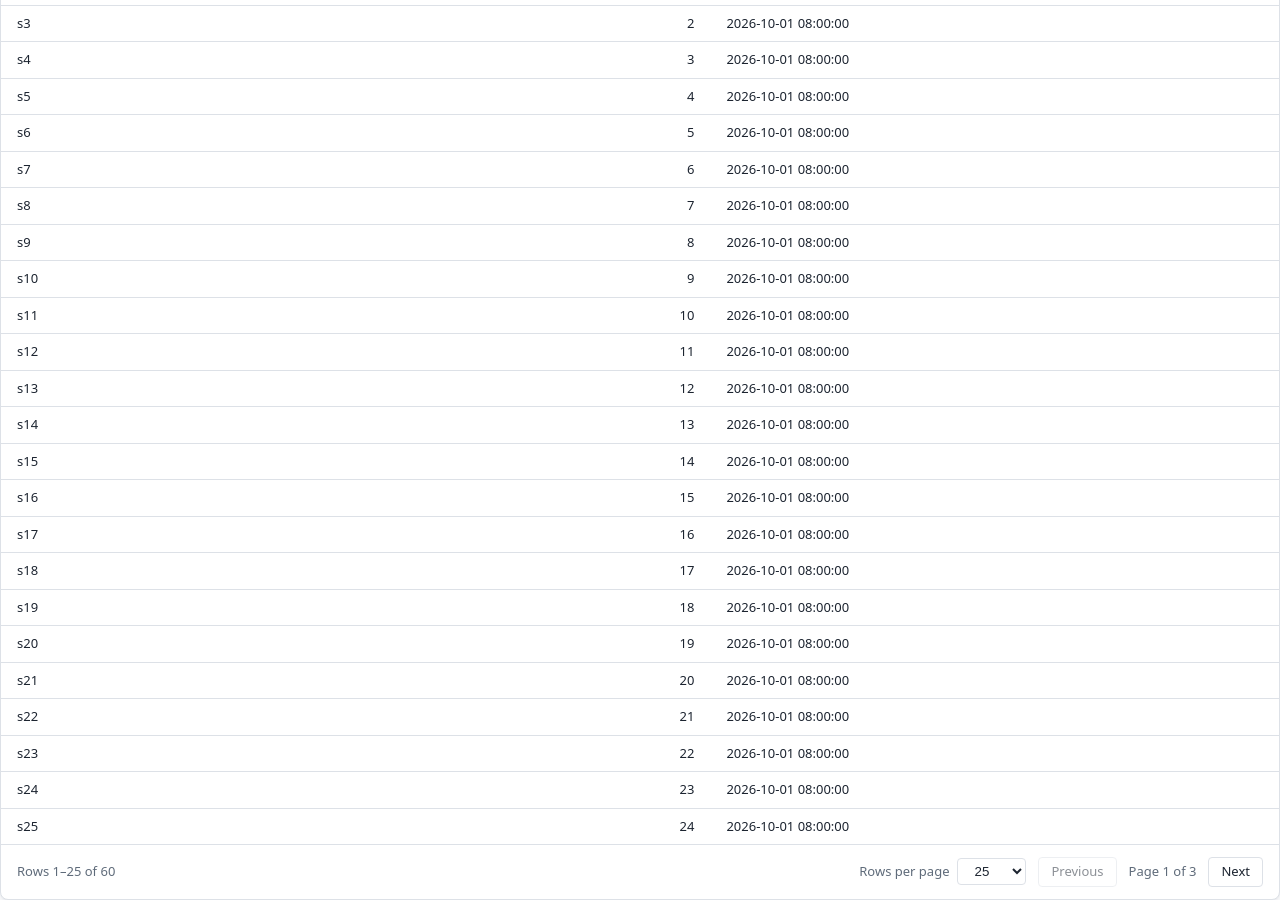
Test: DataTable › pages through rows
(page scrolled)
Expected: the text "Rows 1–25 of 60" is shown, 17,862 -> 115,882
Expected: the text "Page 1 of 3" is shown, 1129,862 -> 1196,882
Click the button "Next": x=1236, y=872 1208,857 -> 1263,886
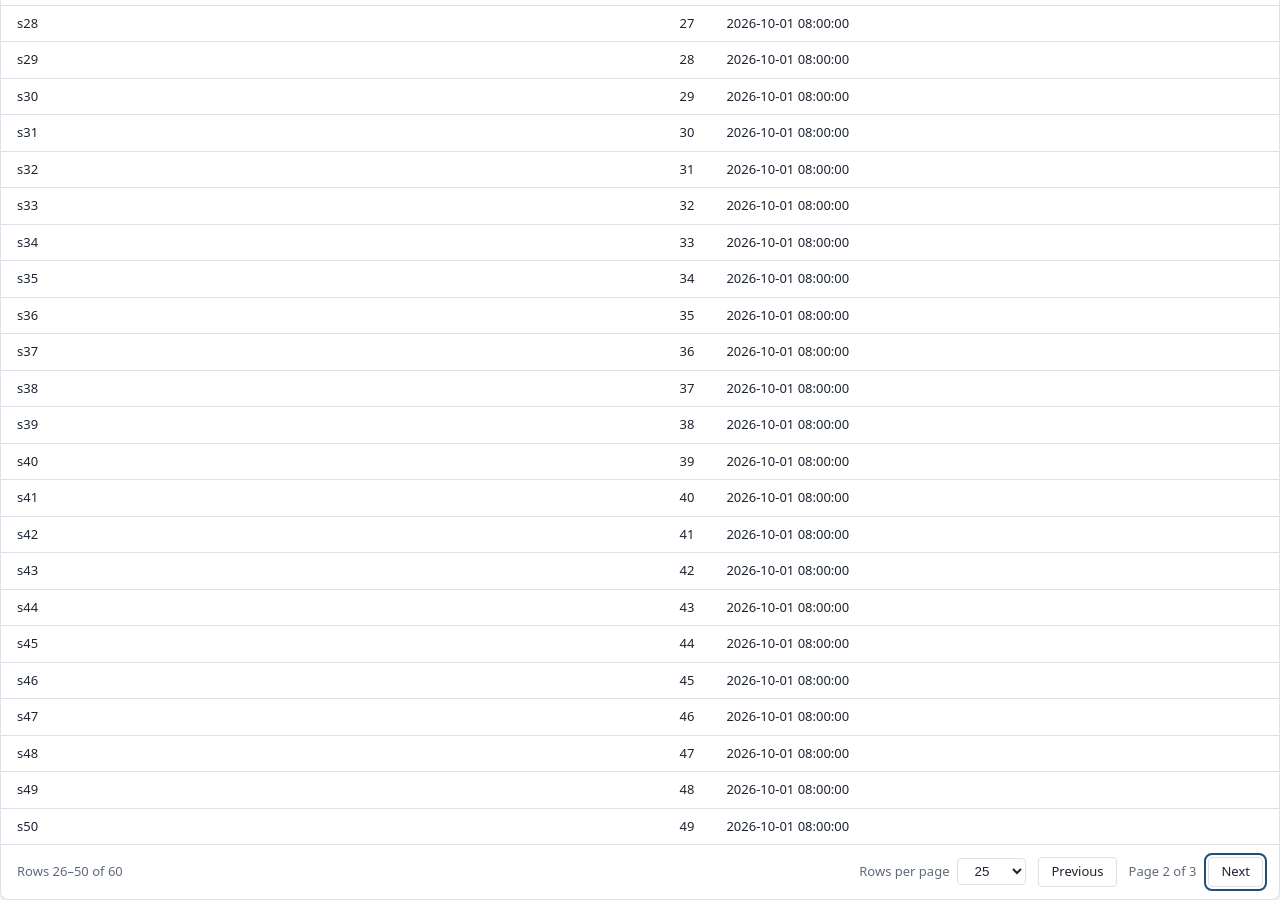
Now the text "Rows 26–50 of 60" is shown, box 17,862 -> 123,882
Click the button "Next": x=1236, y=872 1208,857 -> 1263,886
(page scrolled)
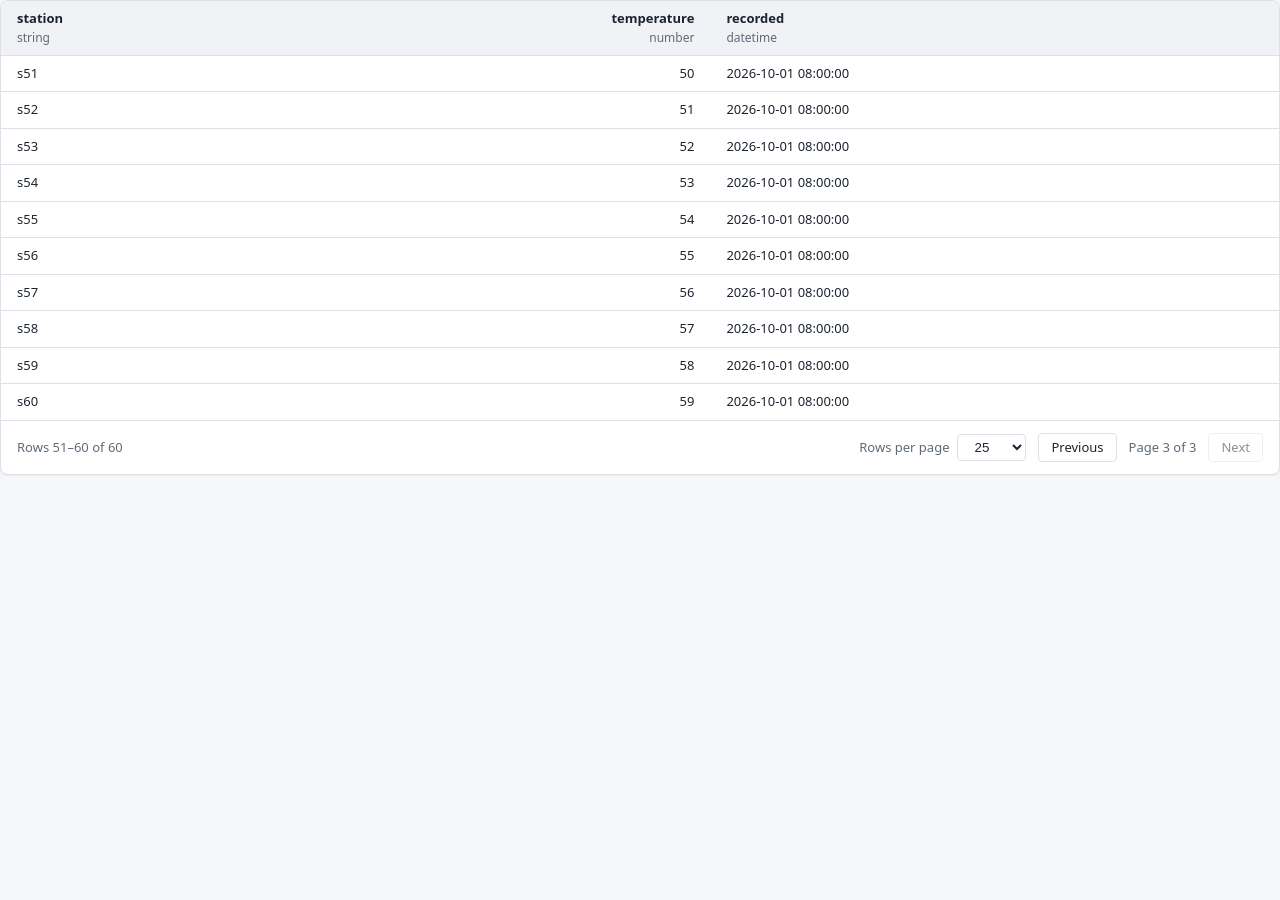
Now the text "Rows 51–60 of 60" is shown, box 17,438 -> 123,457
Now the button "Next" is disabled, box 1208,432 -> 1263,462
